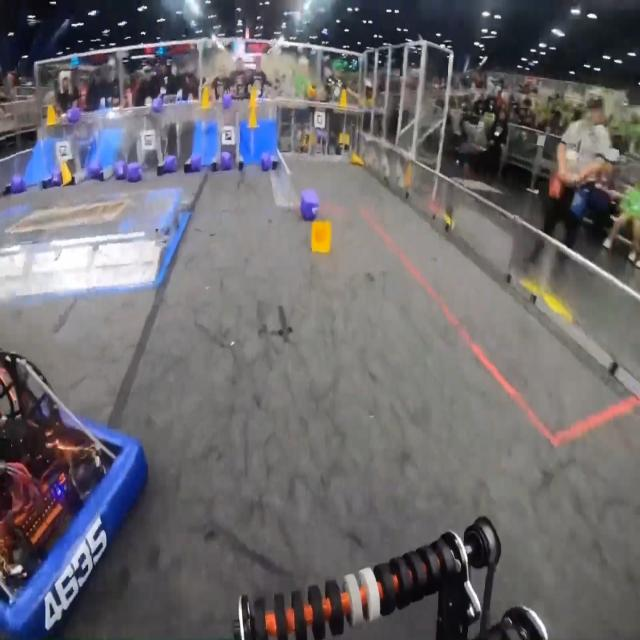robot: (0, 353, 148, 640)
